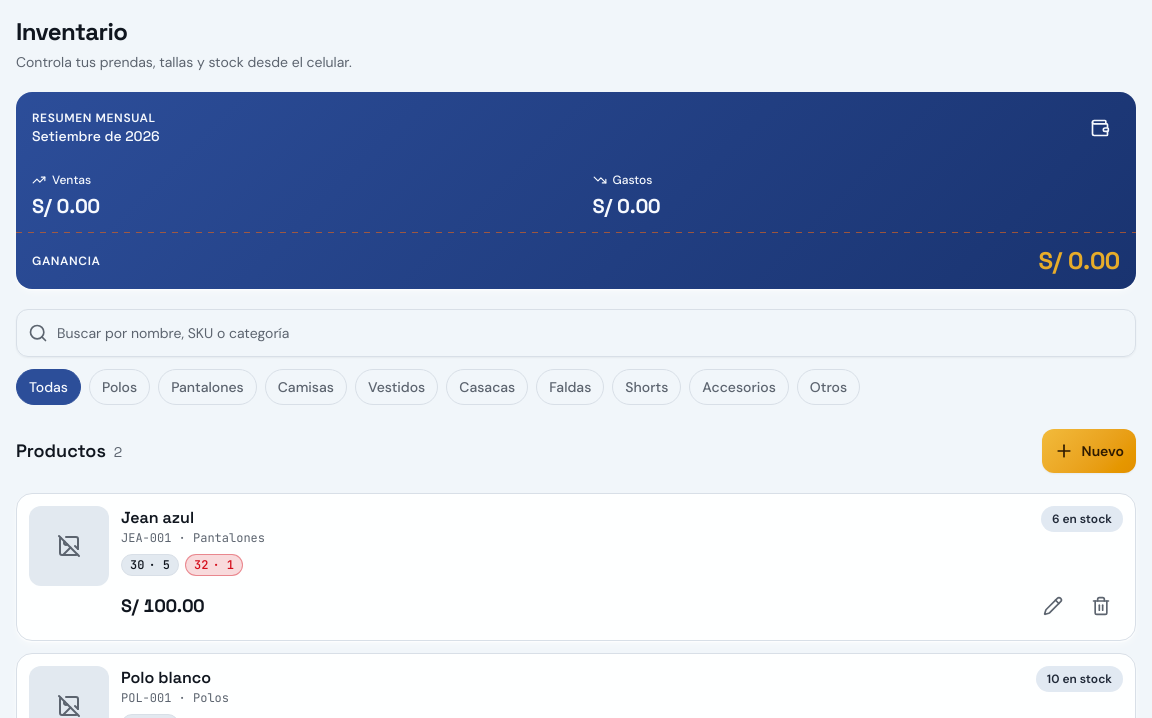
Test case: Inventario › filtra la lista con el buscador
This screenshot has width=1152, height=718.
Expected: the heading "Polo blanco" is shown, [121, 667, 211, 688]
Type "jean" into the search field with test id "inventario.search_input".
click(576, 333); type("jean")  # box [16, 309, 1136, 357]
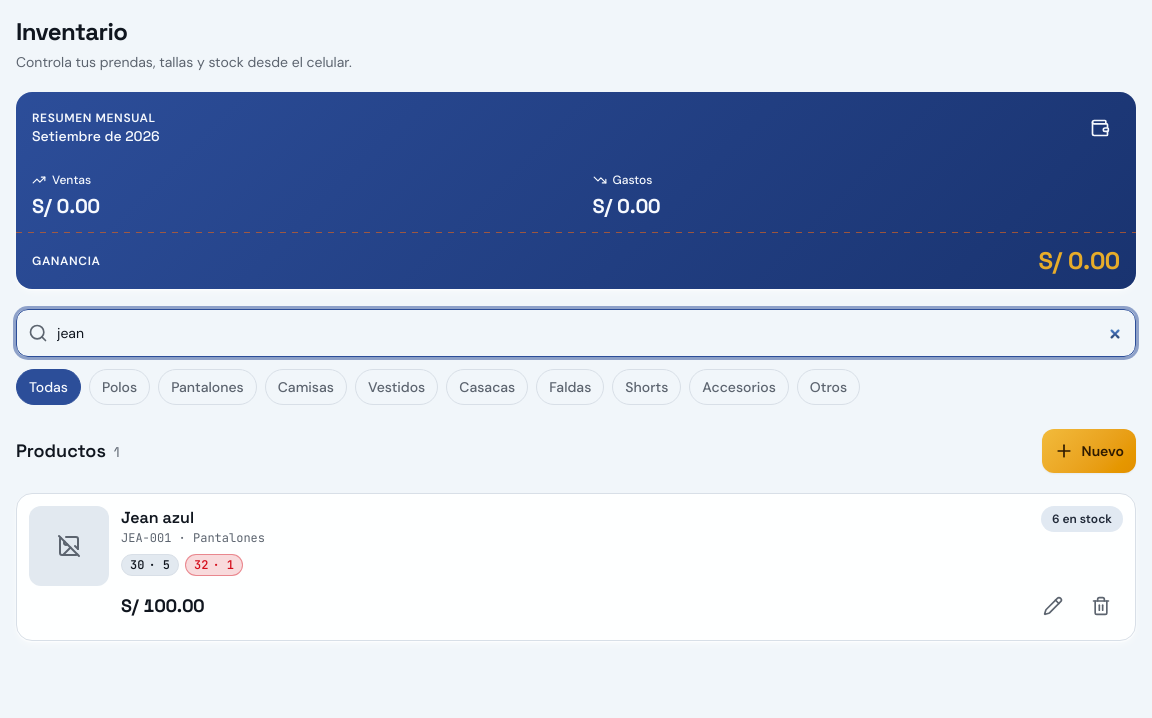
Expected: the heading "Jean azul" is shown, [121, 507, 194, 528]
Expected: the heading "Polo blanco" is gone
